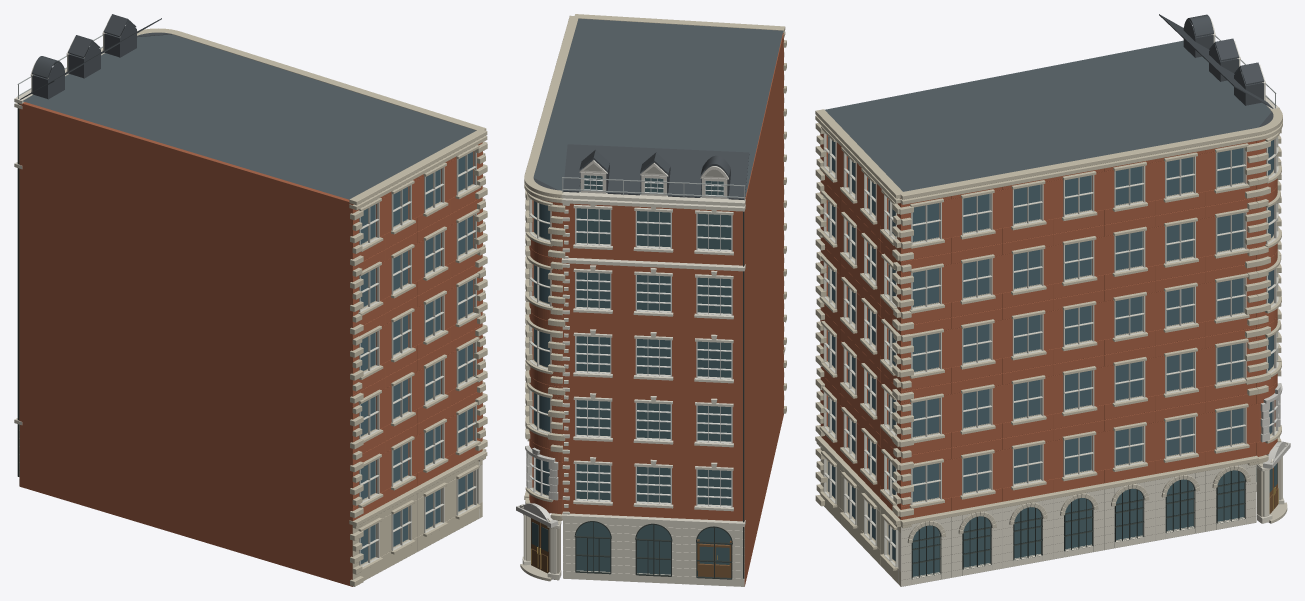
Rendered from 51l-exterior-754ecb04109e.glb.
3 views of the same model, side by side, from view 1: azimuth 30°, elevation 25°; view 2: azimuth 150°, elevation 25°; view 3: azimuth 270°, elevation 25° (orthographic).
Visible parts, largest first — view 1: 51L.001; view 2: 51L.001; view 3: 51L.001.
Part boxes in pixels (x1,y1,x2,y2): 51L.001: [14, 14, 487, 586]; 51L.001: [516, 14, 786, 586]; 51L.001: [815, 14, 1290, 586].
Bounding box in the file's own units: 18.34 × 22.82 × 22.96.
